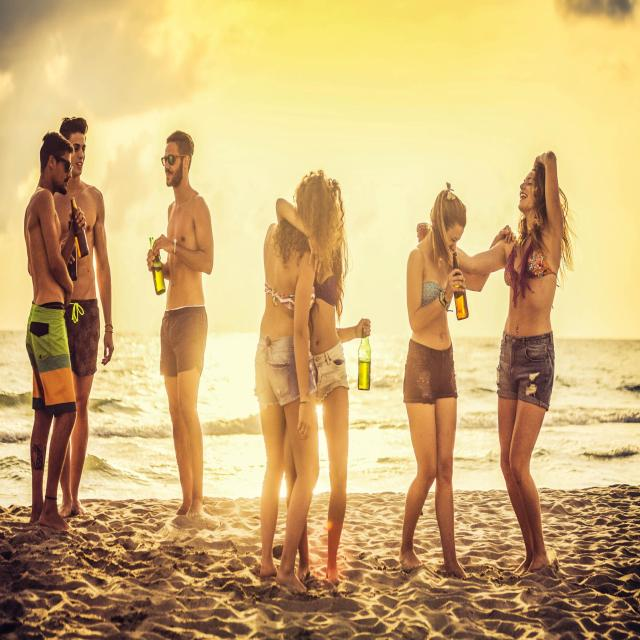gun: (486, 124, 599, 566), (392, 175, 468, 599), (143, 117, 211, 541), (306, 156, 364, 578), (255, 147, 308, 578), (21, 122, 68, 527), (58, 99, 102, 516)
